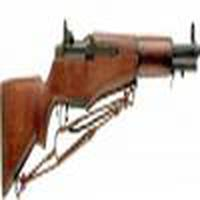gun: (1, 29, 198, 164)
